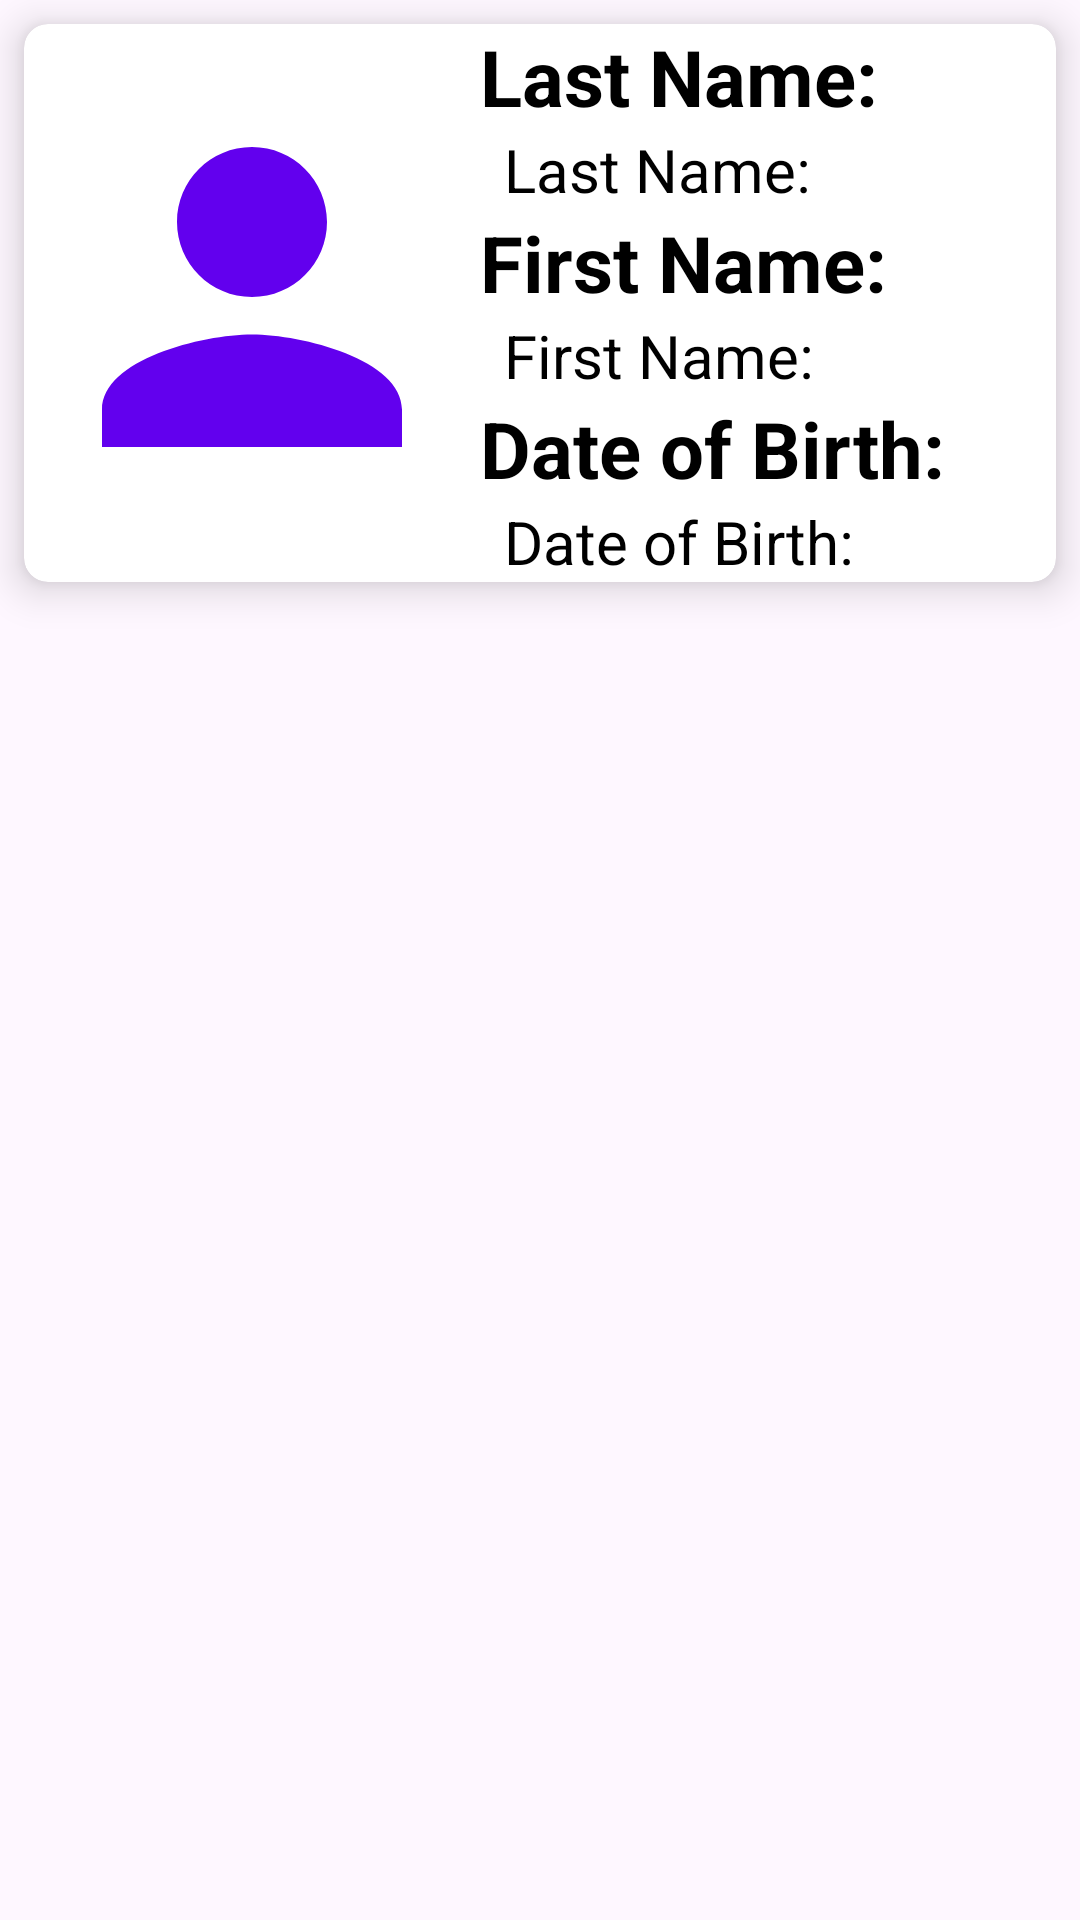

Icon click points for this 1080 × 1920 phone screenshot, format (x,y):
Patient Profile Image: (252,297)
